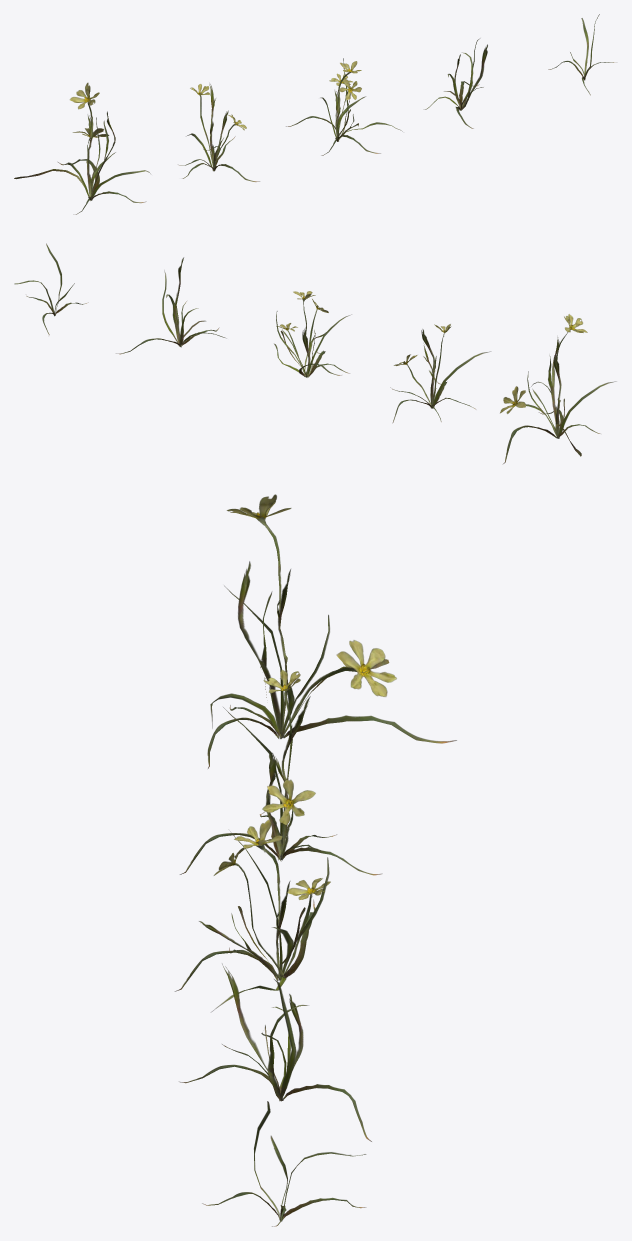
Rendered from flower_empodium.glb.
3 renders of one model, top to bottom at view 1: azimuth 30°, elevation 25°; view 2: azimuth 150°, elevation 25°; view 3: azimuth 270°, elevation 25°, orthographic. The views are drawn at different scales.
Visible parts, largest first — view 1: flower_empodium_a_LOD0, flower_empodium_c_LOD0, flower_empodium_b_LOD0, flower_empodium_d_LOD0, flower_empodium_e_LOD0; view 2: flower_empodium_a_LOD0, flower_empodium_c_LOD0, flower_empodium_b_LOD0, flower_empodium_d_LOD0, flower_empodium_e_LOD0; view 3: flower_empodium_a_LOD0, flower_empodium_c_LOD0, flower_empodium_b_LOD0, flower_empodium_d_LOD0, flower_empodium_e_LOD0.
Boxes of the visible parts, <box> form: flower_empodium_a_LOD0: <box>14,82,150,214</box>; flower_empodium_c_LOD0: <box>286,58,402,155</box>; flower_empodium_b_LOD0: <box>179,84,259,181</box>; flower_empodium_d_LOD0: <box>424,38,487,128</box>; flower_empodium_e_LOD0: <box>548,14,616,95</box>; flower_empodium_a_LOD0: <box>500,314,616,463</box>; flower_empodium_c_LOD0: <box>274,291,351,377</box>; flower_empodium_b_LOD0: <box>390,324,490,423</box>; flower_empodium_d_LOD0: <box>116,257,226,354</box>; flower_empodium_e_LOD0: <box>14,243,88,335</box>; flower_empodium_a_LOD0: <box>207,494,456,768</box>; flower_empodium_c_LOD0: <box>175,819,330,1011</box>; flower_empodium_b_LOD0: <box>180,669,382,875</box>; flower_empodium_d_LOD0: <box>179,963,371,1141</box>; flower_empodium_e_LOD0: <box>202,1101,366,1226</box>.
Bounding box in the file's own units: 1.32 × 0.2684 × 0.2841.
1 material, 1 textured.
